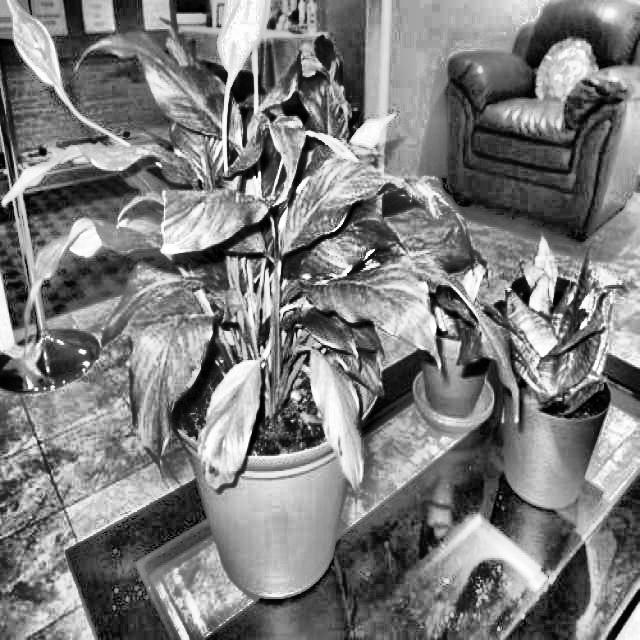plants: (23, 0, 445, 603), (491, 235, 618, 518), (302, 338, 378, 504), (194, 353, 269, 495), (555, 380, 608, 426)
